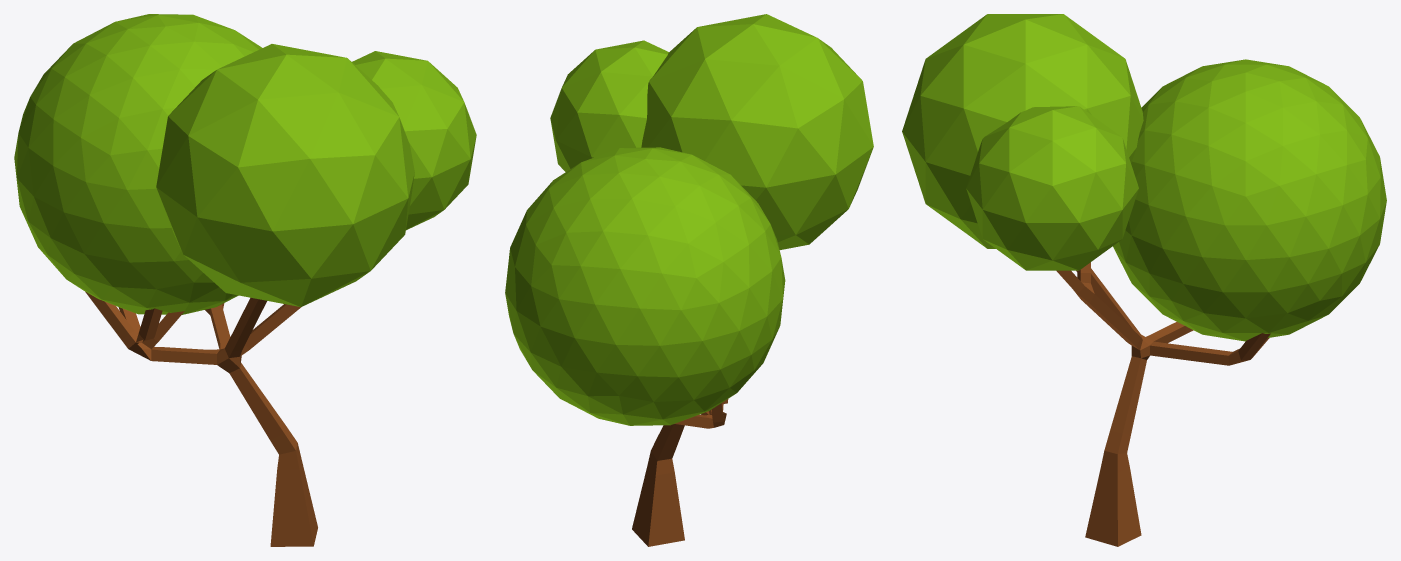
Rendered from Tree1.fbx.
The picture shows the model from 3 angles, left to right: view 1: azimuth 30°, elevation 25°; view 2: azimuth 150°, elevation 25°; view 3: azimuth 270°, elevation 25°; orthographic projection. The views are drawn at different scales.
Parts seen in each view (by area): view 1: Cube; view 2: Cube; view 3: Cube.
Part boxes in pixels (x1,y1,x2,y2): Cube: [14, 14, 476, 546]; Cube: [505, 14, 873, 546]; Cube: [902, 14, 1386, 546].
Size of the model in its own units: 1465 by 1048 by 1644.
